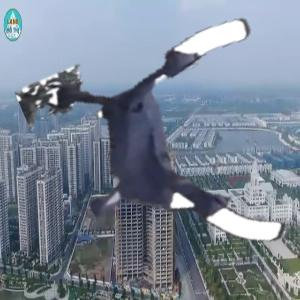drone: (53, 33, 298, 278)
